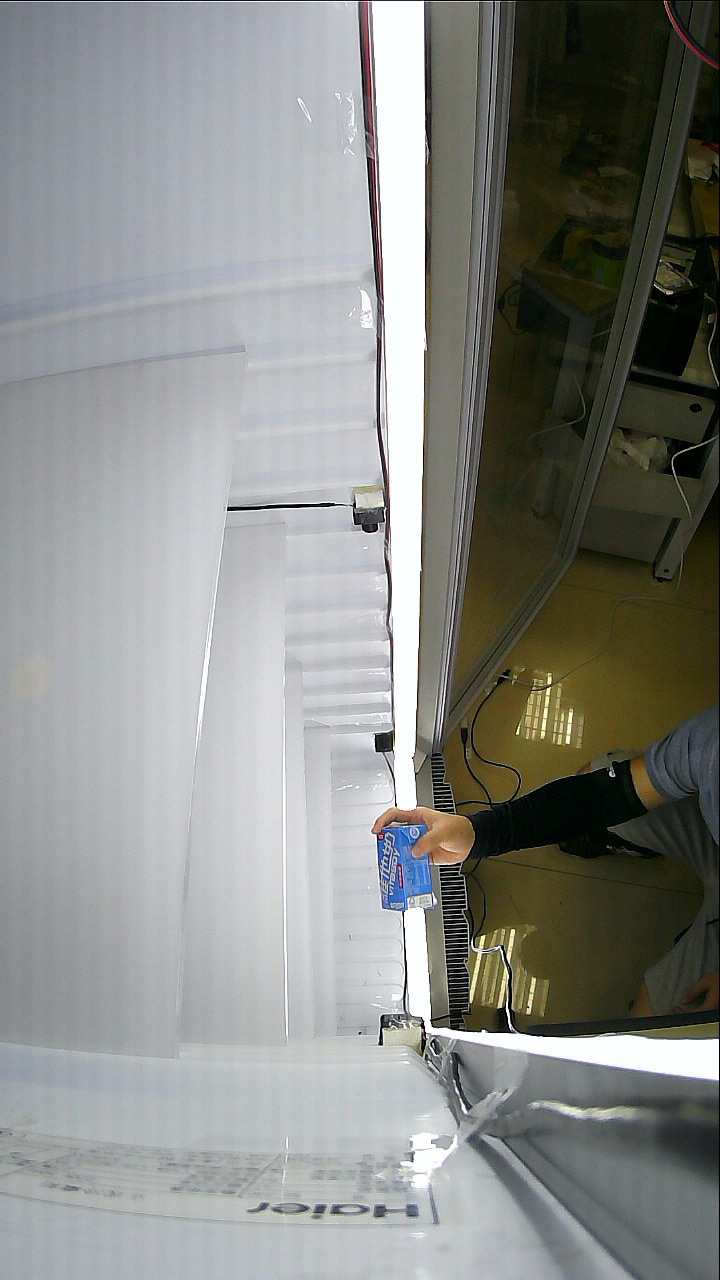VitaSoyOriginal: (376, 806, 491, 915)
